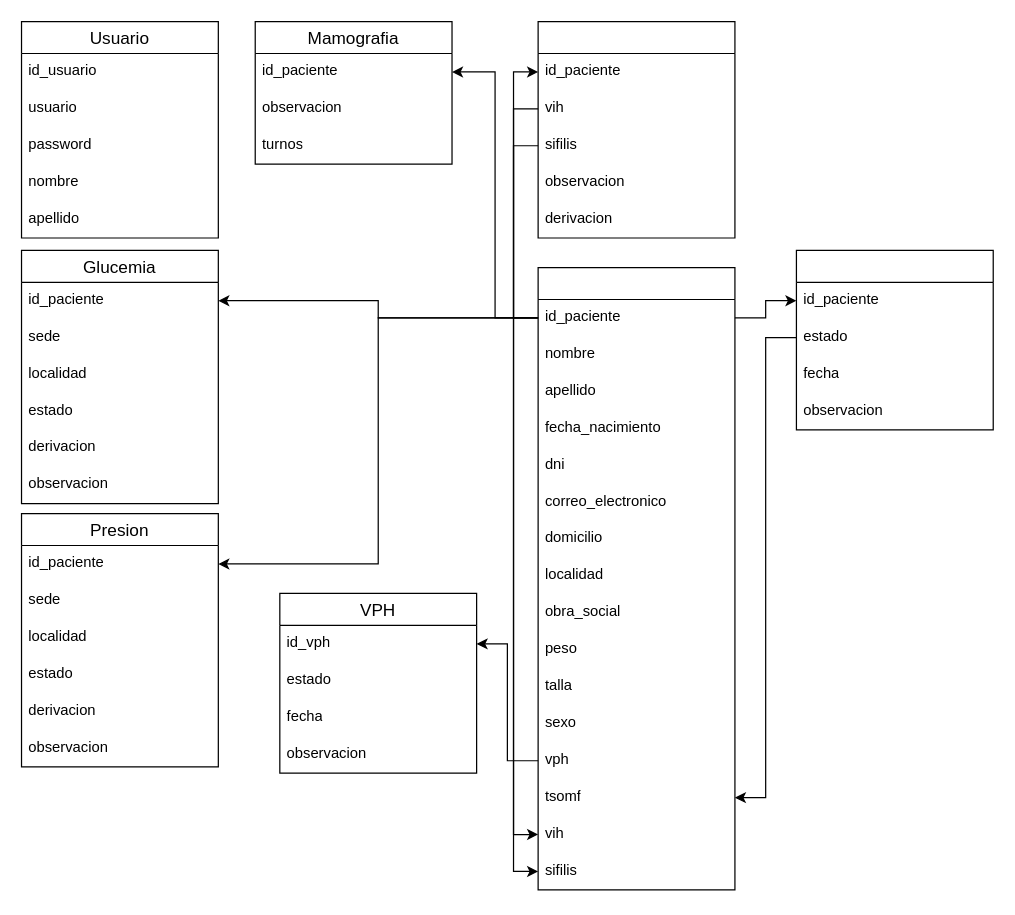
Image size: 1015x915. Some labels were removed from this diagram. The box of each missing label's shape, as (x1, y1, x2, y2) in pixels:
Pacientes: (537, 266, 735, 890)
Sangre Oculta: (795, 249, 993, 430)
VIH/SIFILIS: (537, 20, 735, 238)
